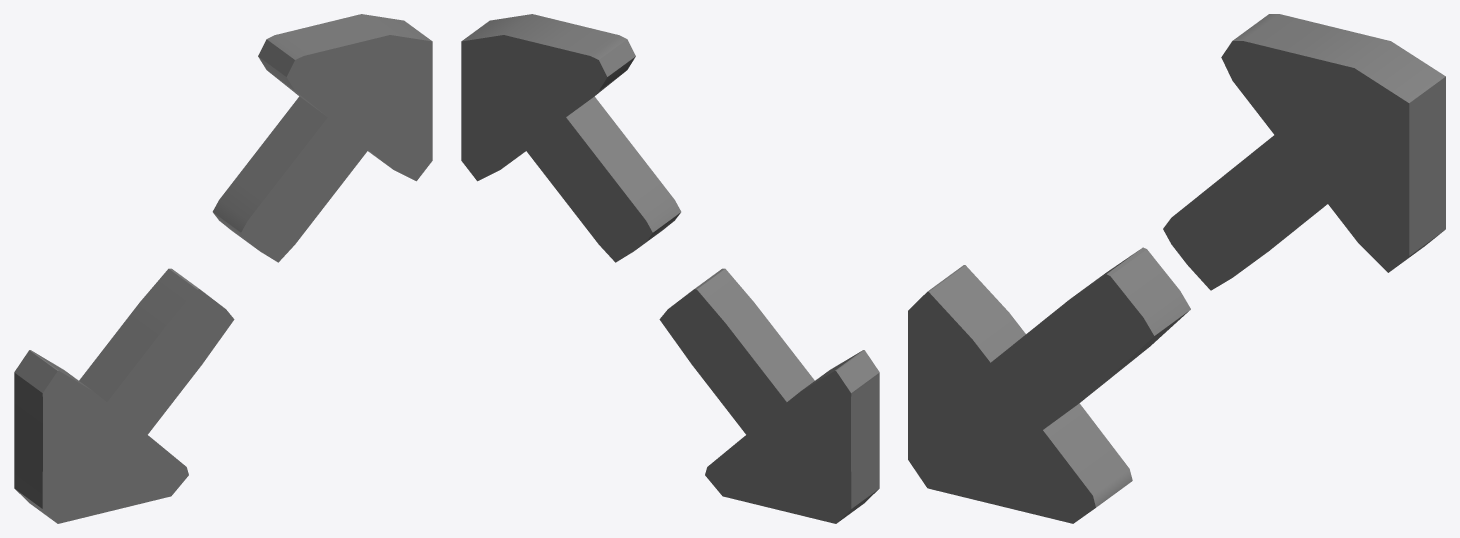
The model's file is fa-expand.obj.
3 views of the same model, side by side, from view 1: azimuth 30°, elevation 25°; view 2: azimuth 150°, elevation 25°; view 3: azimuth 330°, elevation 25° (orthographic). The views are drawn at different scales.
Size of the model in its own units: 0.9071 by 0.9072 by 0.1152.
1 material, 1 textured.
